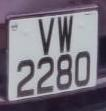0: (73, 48, 92, 90)
2: (14, 54, 37, 101), (34, 54, 57, 96)
8: (54, 52, 75, 93)
V: (36, 15, 57, 58)
W: (54, 11, 76, 56)
